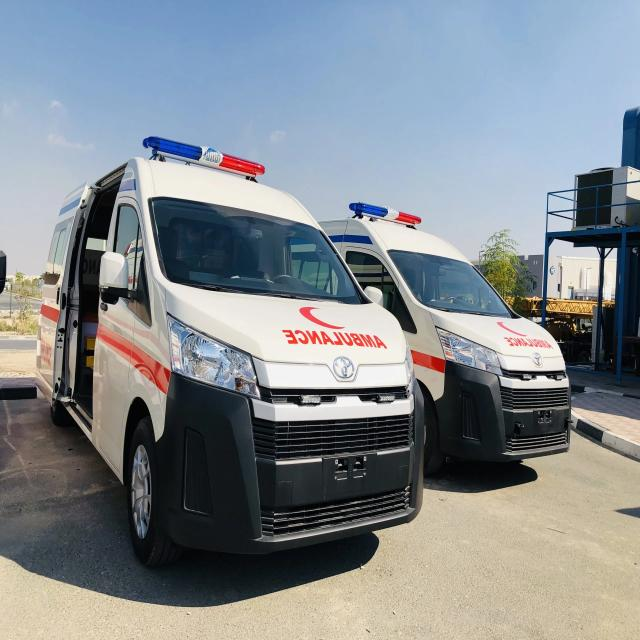Ambulance: (37, 132, 580, 594)
